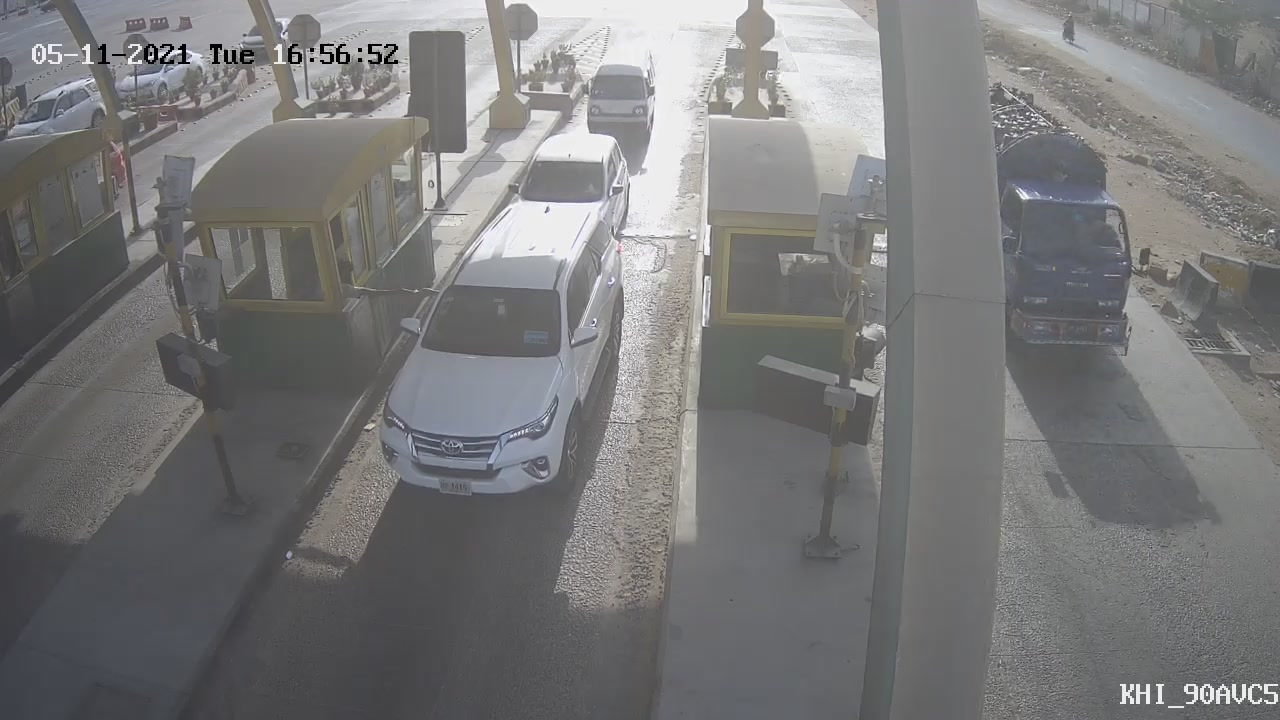F1: (342, 182, 650, 525), (561, 34, 679, 160)
